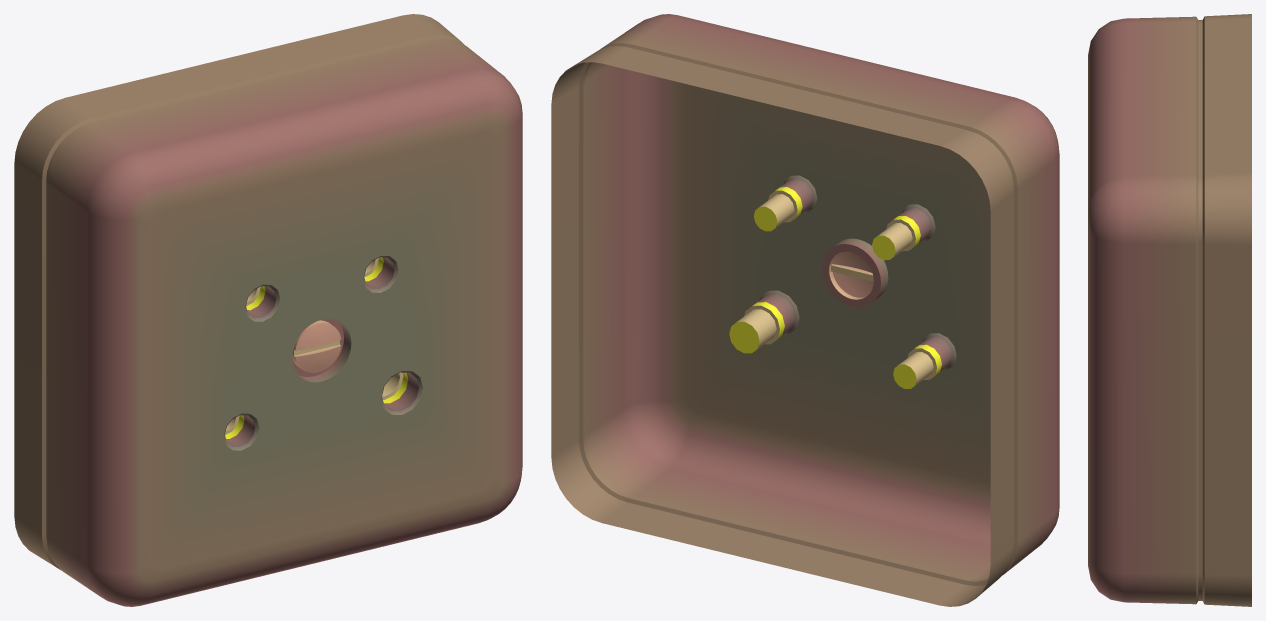
File: Kit_JackPhone4Prong.fbx
3 renders of one model, left to right at view 1: azimuth 30°, elevation 25°; view 2: azimuth 150°, elevation 25°; view 3: azimuth 270°, elevation 25°, orthographic. The views are drawn at different scales.
Parts seen in each view (by area): view 1: Kit_JackPhone4Prong_LOD0; view 2: Kit_JackPhone4Prong_LOD0; view 3: Kit_JackPhone4Prong_LOD0.
Boxes of the visible parts, box(x1,y1,x2,y2) form: Kit_JackPhone4Prong_LOD0: box(14, 14, 522, 606); Kit_JackPhone4Prong_LOD0: box(551, 14, 1059, 606); Kit_JackPhone4Prong_LOD0: box(1088, 14, 1251, 606).
Size of what is drawn, in the model's own units: 0.052 by 0.052 by 0.018.
